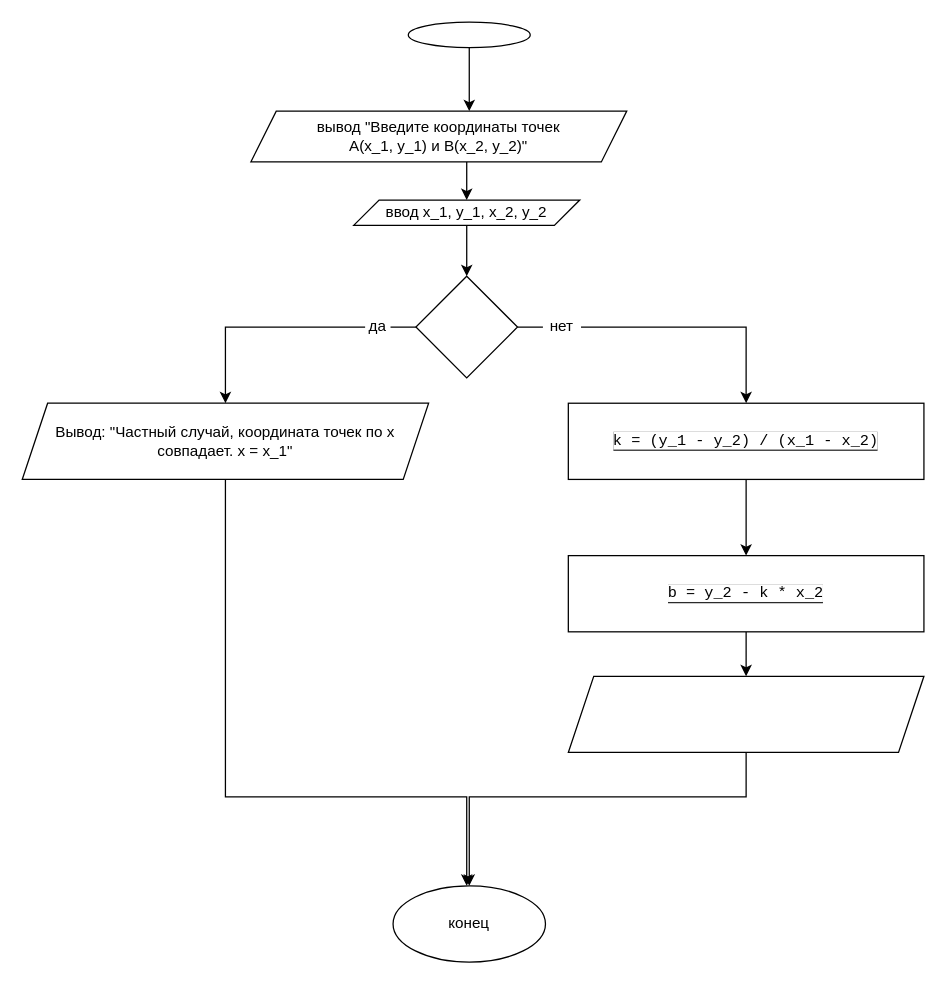
Image size: 946x984. Some labels were removed from this diagram. Each missing label, with the centre of its shape:
x_1 == x_2: pixel 466 326
Вывод "y = kx+b: pixel 745 713
начало: pixel 468 34
